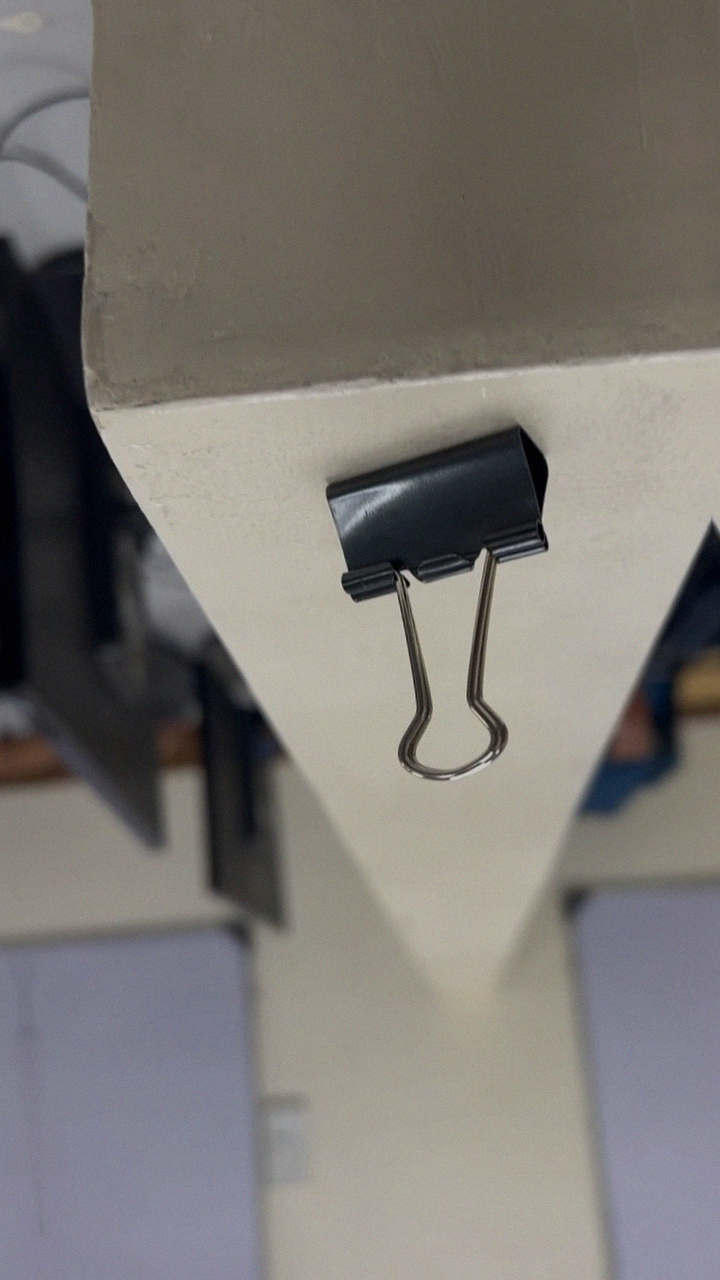kep_giay: (319, 426, 577, 792)
